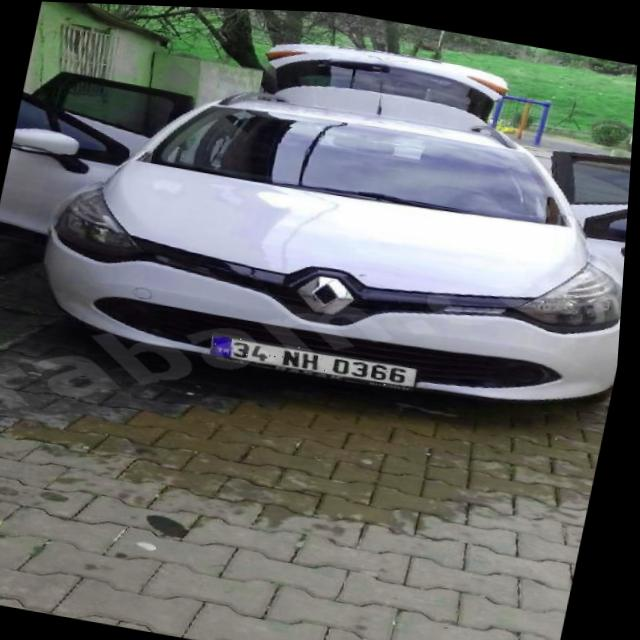license_plate: (212, 330, 425, 388)
